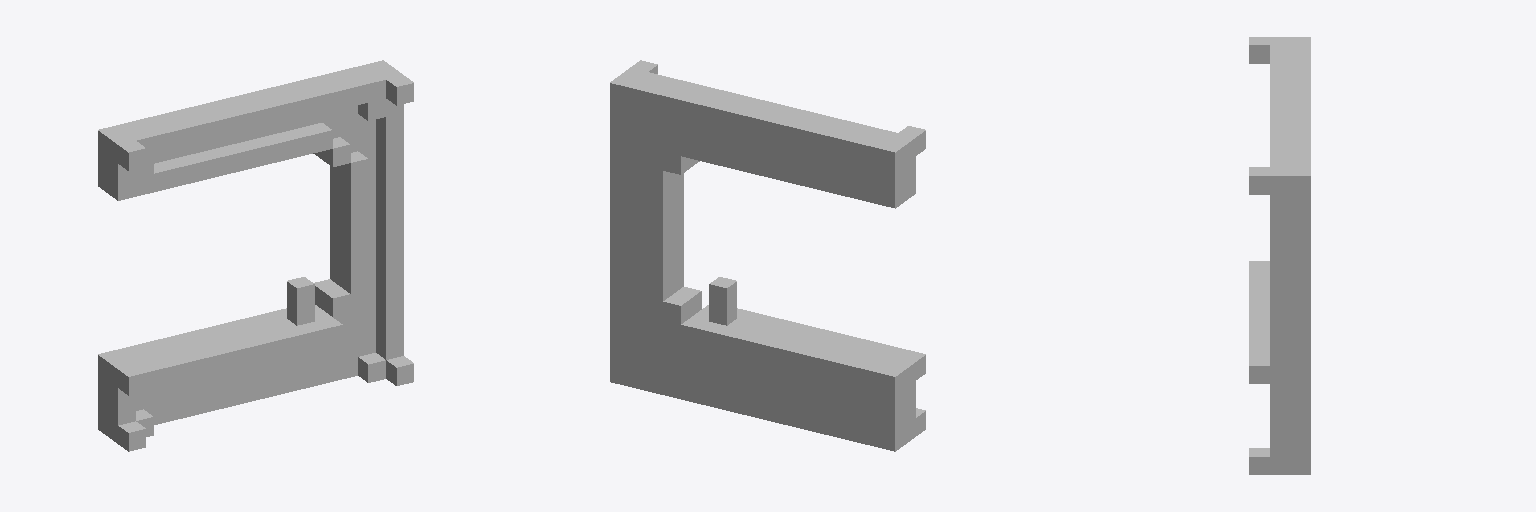
Rendered from Static Objects-18.obj.
The picture shows the model from 3 angles: view 1: azimuth 30°, elevation 25°; view 2: azimuth 150°, elevation 25°; view 3: azimuth 270°, elevation 25°; orthographic projection.
Visible parts, largest first — view 1: object 1; view 2: object 1; view 3: object 1.
Part boxes in pixels (bbox=[...]): object 1: bbox=[98, 60, 413, 451]; object 1: bbox=[610, 60, 925, 451]; object 1: bbox=[1249, 37, 1310, 474].
Size of the model in its own units: 1.6 by 1.6 by 0.3.